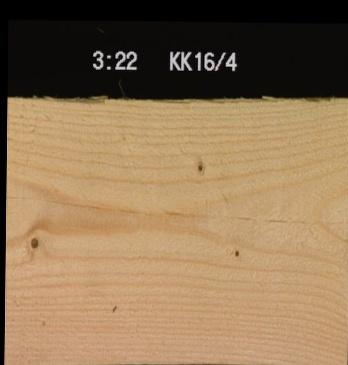small_knot: (27, 232, 38, 249), (194, 160, 203, 172), (231, 246, 239, 257)
wave: (6, 93, 337, 113)
